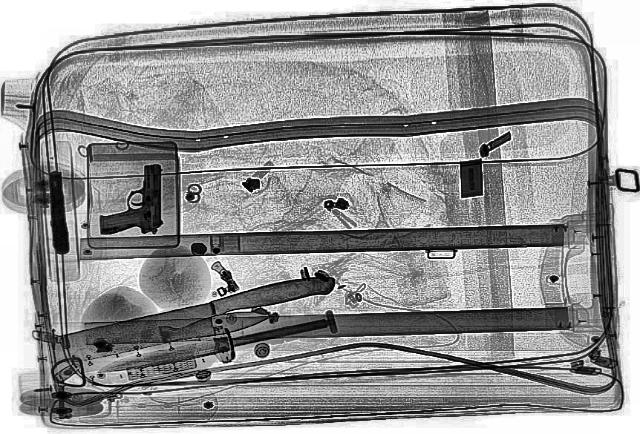Gun: (92, 163, 166, 235), (44, 171, 70, 255)
Knife: (37, 270, 356, 380), (93, 314, 333, 378), (52, 306, 274, 364)
